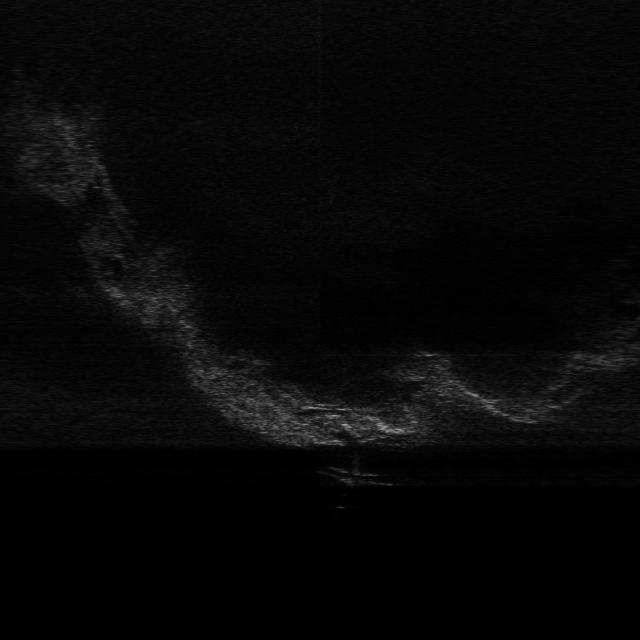plane: (320, 464, 396, 488)
